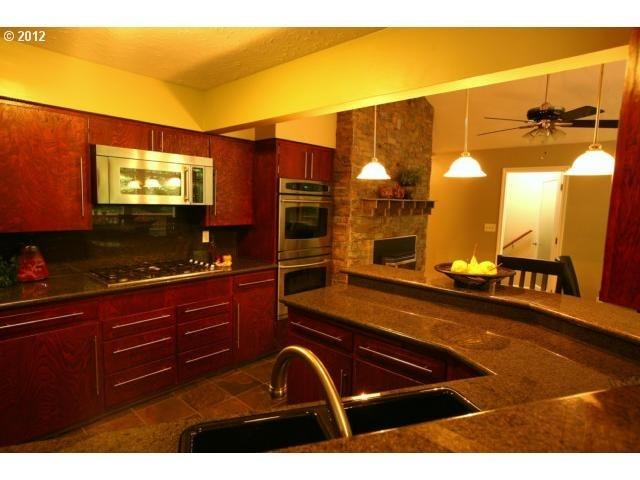pear: (468, 243, 482, 274), (478, 260, 504, 274), (452, 260, 468, 272)
